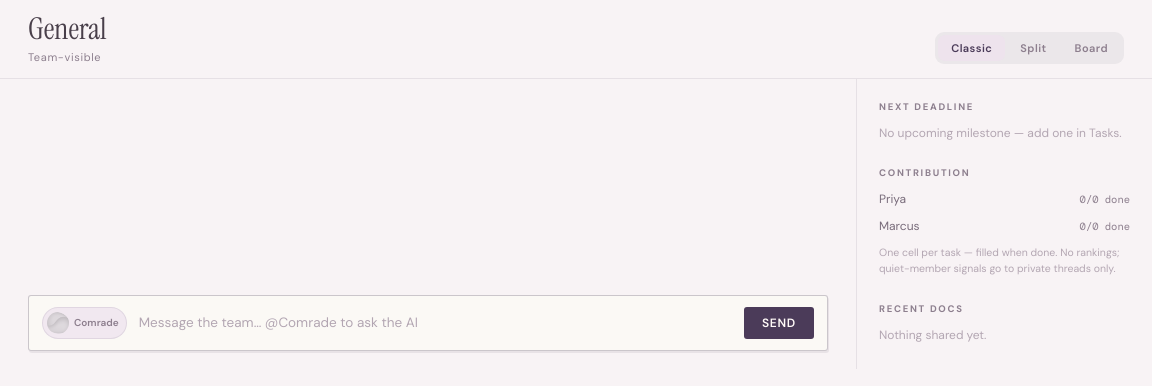
Test: a stream that dies mid-run › 🔴 a thrown reader failure reconnects instead of ending the watch
Type "@comrade status?" into the field with placeholder "Message the team… @Comrade to ask the AI". click: (435, 322)
box: left=137, top=306, right=734, bottom=338
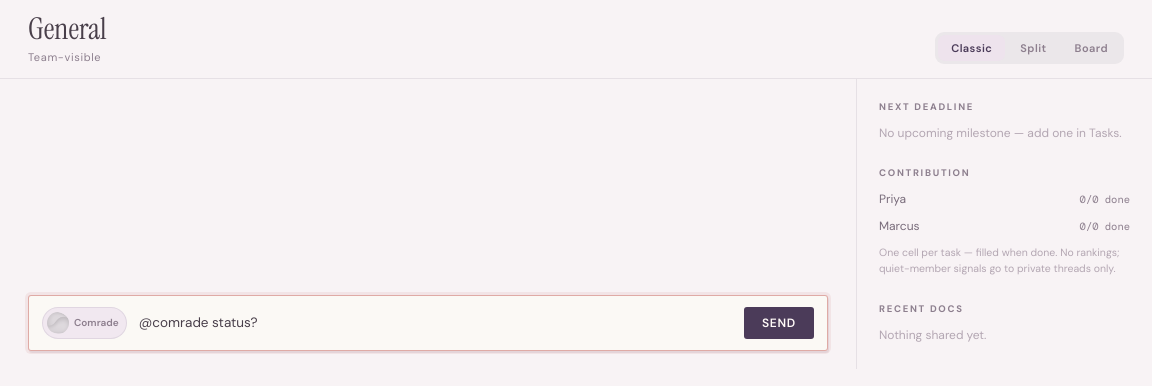
Click the button "SEND". click: (779, 322)
box: left=744, top=306, right=814, bottom=338
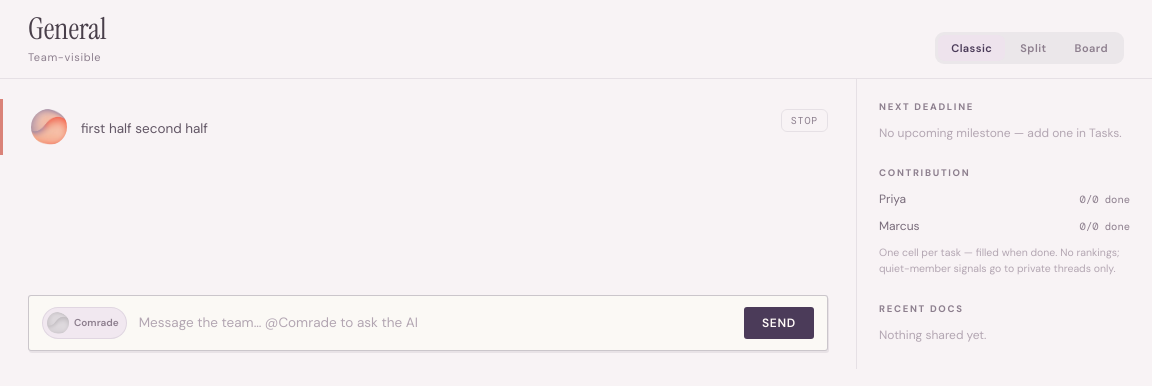
Expected: the text "first half second half" is shown, left=81, top=120, right=208, bottom=137
